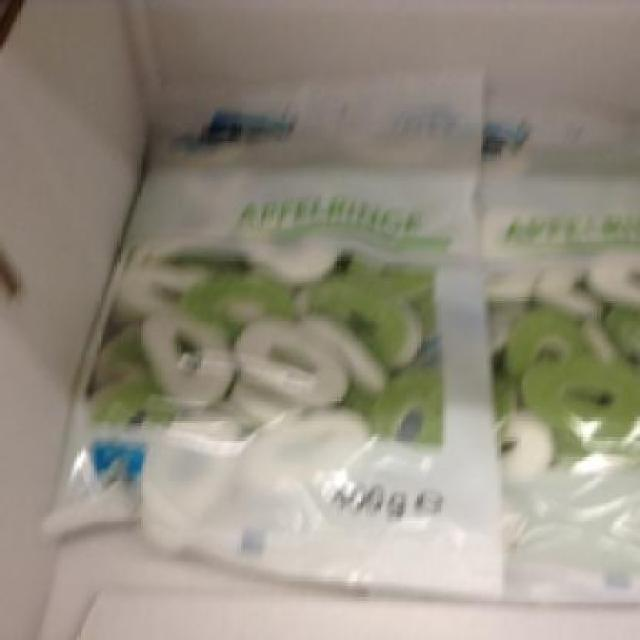Candy: (60, 74, 506, 583), (388, 165, 638, 598)
